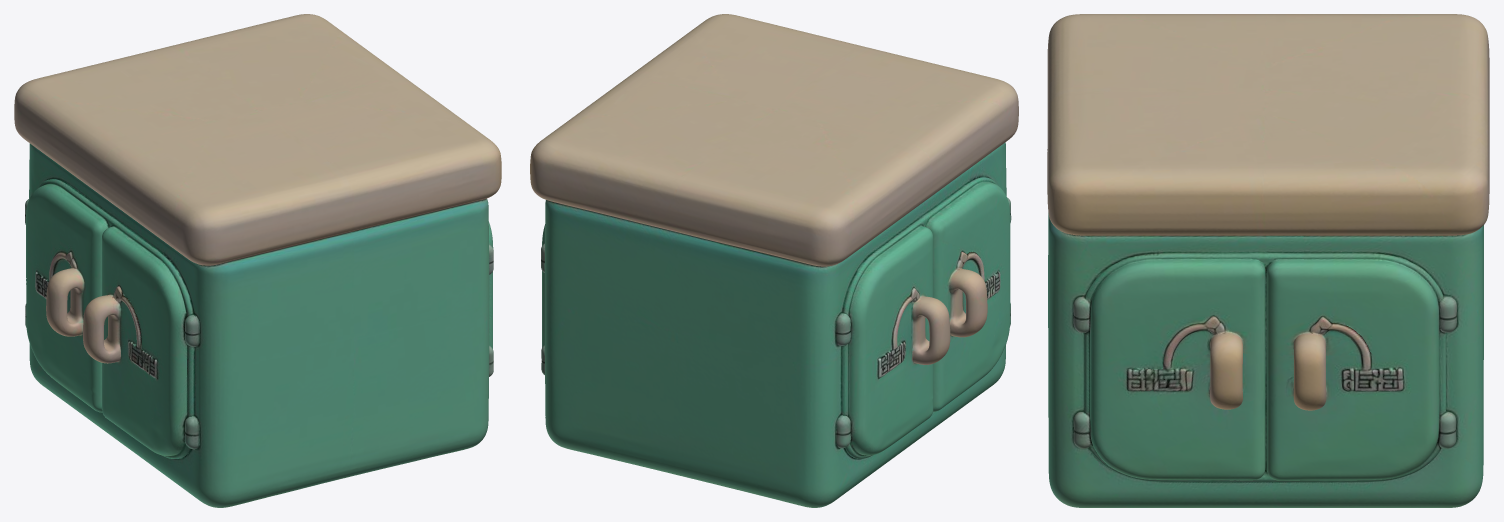
File: CounterBlock.glb
The picture shows the model from 3 angles, left to right: view 1: azimuth 30°, elevation 25°; view 2: azimuth 150°, elevation 25°; view 3: azimuth 270°, elevation 25°; orthographic projection. The views are drawn at different scales.
Visible parts, largest first — view 1: tripo_node_eb37f335-764c-4d26-8882-528ba74ad59b; view 2: tripo_node_eb37f335-764c-4d26-8882-528ba74ad59b; view 3: tripo_node_eb37f335-764c-4d26-8882-528ba74ad59b.
Part boxes in pixels (x1=…): tripo_node_eb37f335-764c-4d26-8882-528ba74ad59b: x1=14, y1=14, x2=501, y2=507; tripo_node_eb37f335-764c-4d26-8882-528ba74ad59b: x1=530, y1=14, x2=1018, y2=507; tripo_node_eb37f335-764c-4d26-8882-528ba74ad59b: x1=1047, y1=14, x2=1489, y2=507.
Bounding box in the file's own units: 1 × 0.7628 × 0.8832.
Materials: 1 (1 with a texture image).
